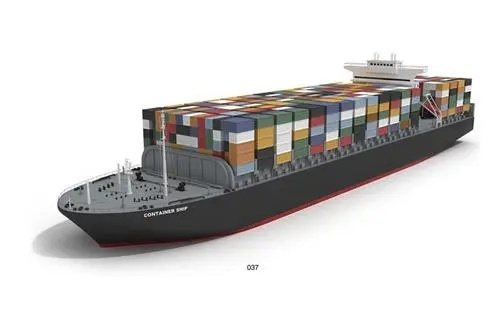Cargoship: (51, 48, 478, 247)
